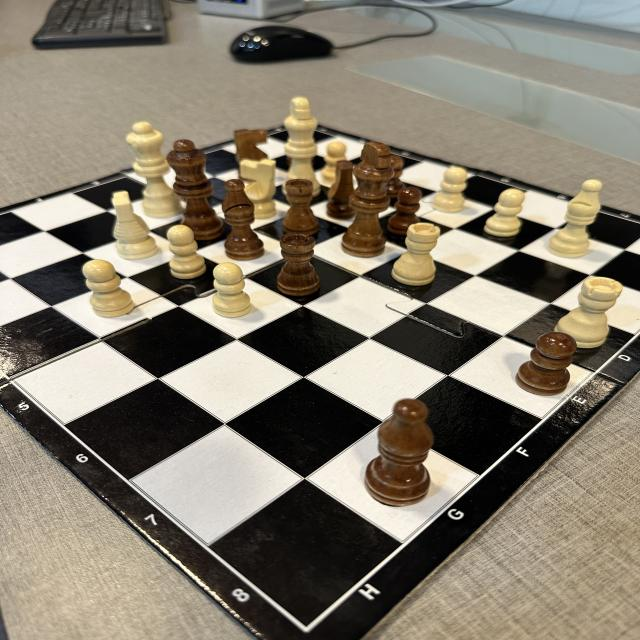Black-Bishop: (362, 398, 432, 507), (221, 178, 264, 260)
Black-King: (341, 141, 393, 258)
Black-Knight: (326, 160, 357, 218), (234, 129, 268, 174)
Black-Pawn: (515, 332, 577, 395), (386, 184, 421, 236), (386, 154, 404, 196)
Black-Queen: (167, 139, 225, 242)
Black-Rook: (276, 232, 320, 296), (281, 178, 318, 237)
White-Bishop: (548, 178, 601, 256)
White-King: (282, 98, 321, 198)
White-Knight: (112, 191, 156, 261), (239, 158, 277, 218)
White-Pawn: (82, 258, 136, 318), (213, 262, 252, 318), (167, 224, 206, 278), (485, 188, 524, 238), (432, 166, 468, 213), (324, 142, 348, 186)
White-Queen: (127, 121, 184, 218)
White-Rook: (554, 276, 622, 348), (391, 222, 441, 285)
